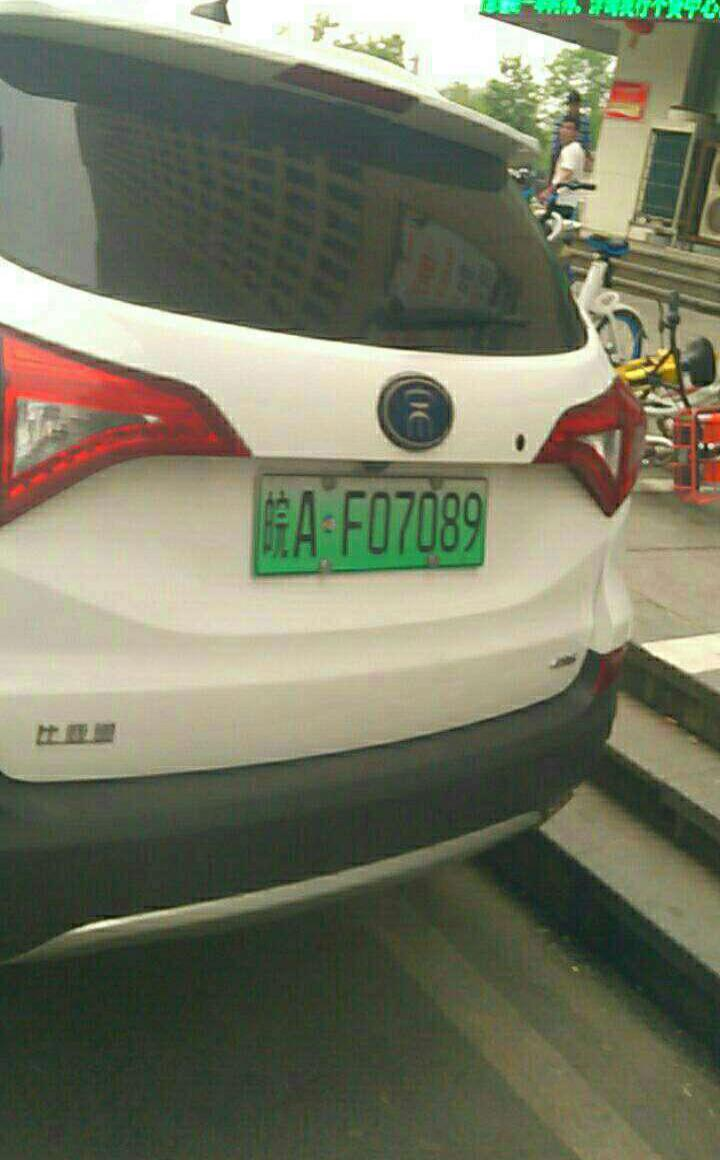car_id: (251, 474, 486, 573)
